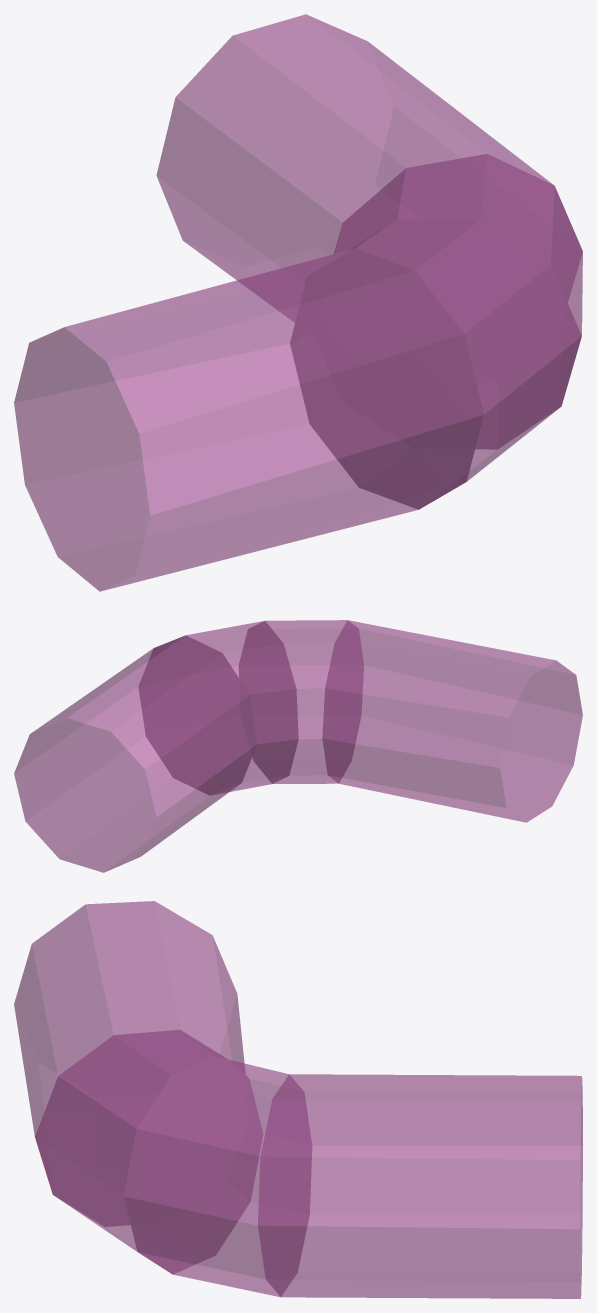
The model's file is SM_Bld_Pipe_Large_Bend_01_Collision.fbx.
3 views of the same model, one above another, from view 1: azimuth 30°, elevation 25°; view 2: azimuth 150°, elevation 25°; view 3: azimuth 270°, elevation 25° (orthographic). The views are drawn at different scales.
Visible parts, largest first — view 1: SM_Bld_Pipe_Large_Bend_01_Collision; view 2: SM_Bld_Pipe_Large_Bend_01_Collision; view 3: SM_Bld_Pipe_Large_Bend_01_Collision.
Boxes of the visible parts, x1,y1,x2,y2 form: SM_Bld_Pipe_Large_Bend_01_Collision: (14, 14, 582, 591); SM_Bld_Pipe_Large_Bend_01_Collision: (14, 620, 582, 872); SM_Bld_Pipe_Large_Bend_01_Collision: (14, 901, 582, 1298).
Bounding box in the file's own units: 317 × 125 × 324.
